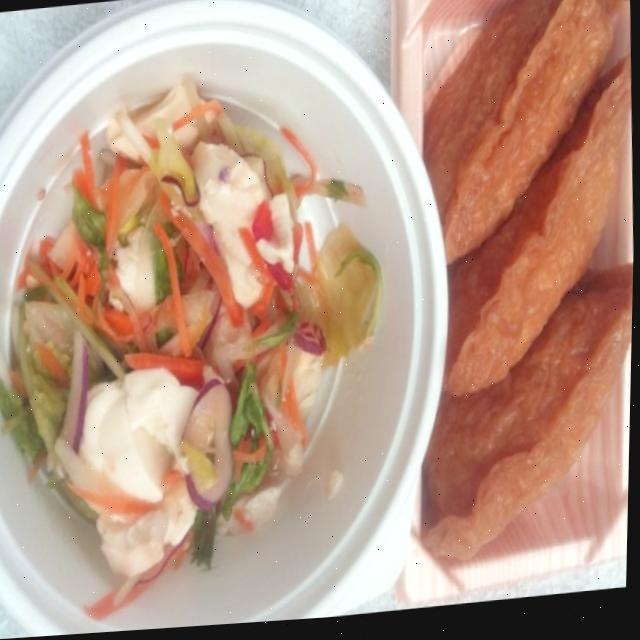寿司卷物: (398, 0, 640, 595)
